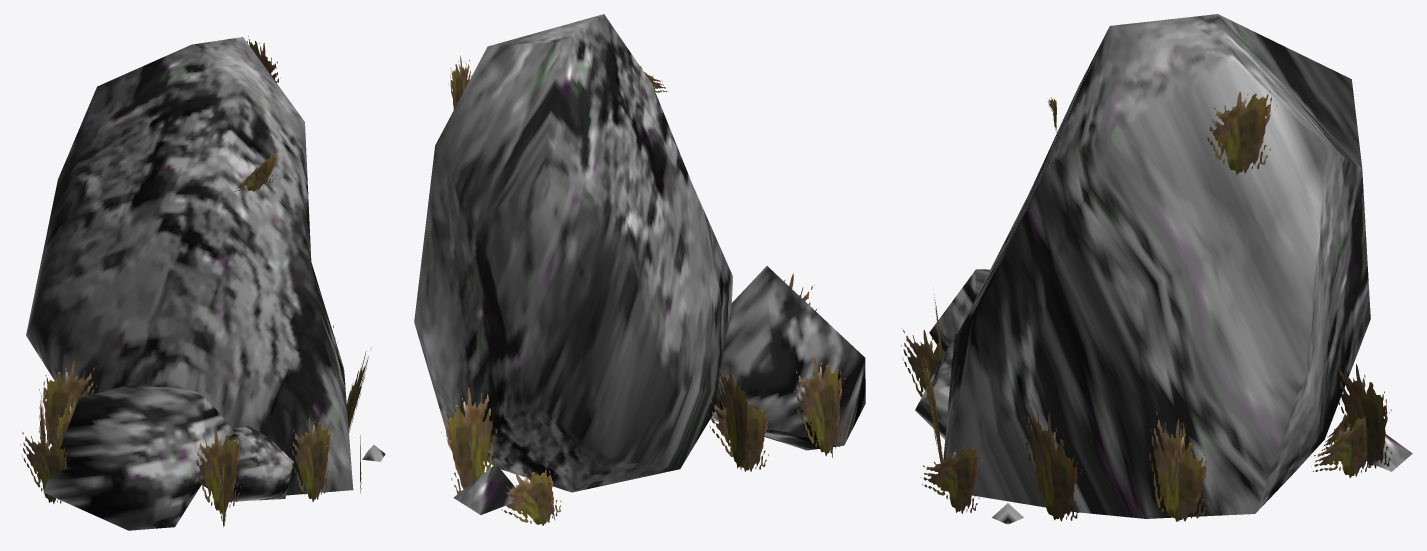
3 views of the same model, side by side, from view 1: azimuth 30°, elevation 25°; view 2: azimuth 150°, elevation 25°; view 3: azimuth 270°, elevation 25° (orthographic). The views are drawn at different scales.
Visible parts, largest first — view 1: Stone02; view 2: Stone02; view 3: Stone02.
Boxes of the visible parts, <box> form: Stone02: <box>20,36,385,530</box>; Stone02: <box>414,14,865,525</box>; Stone02: <box>901,14,1412,524</box>.
Bounding box in the file's own units: 255 × 278 × 278.
